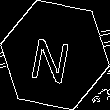N_N: (31, 26, 79, 84)
